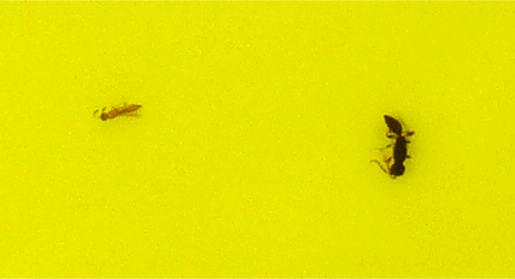Hymenoptera: (374, 114, 415, 179), (100, 100, 142, 121)
